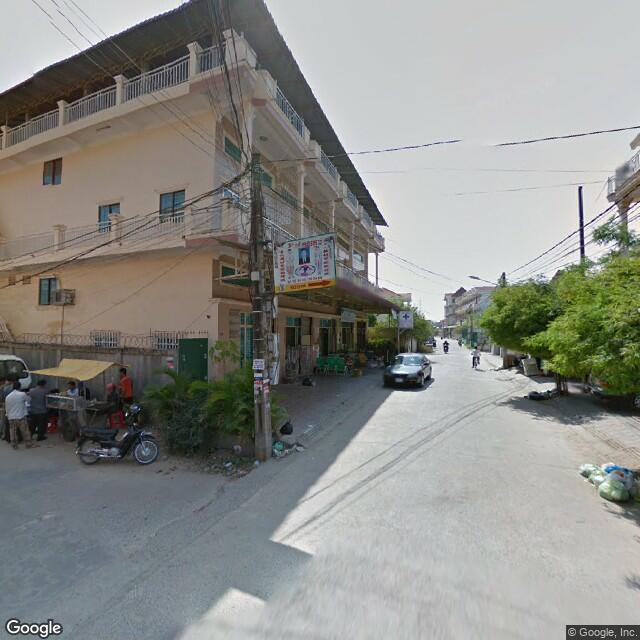litter: (218, 454, 236, 473), (272, 437, 286, 453), (303, 419, 320, 432)
